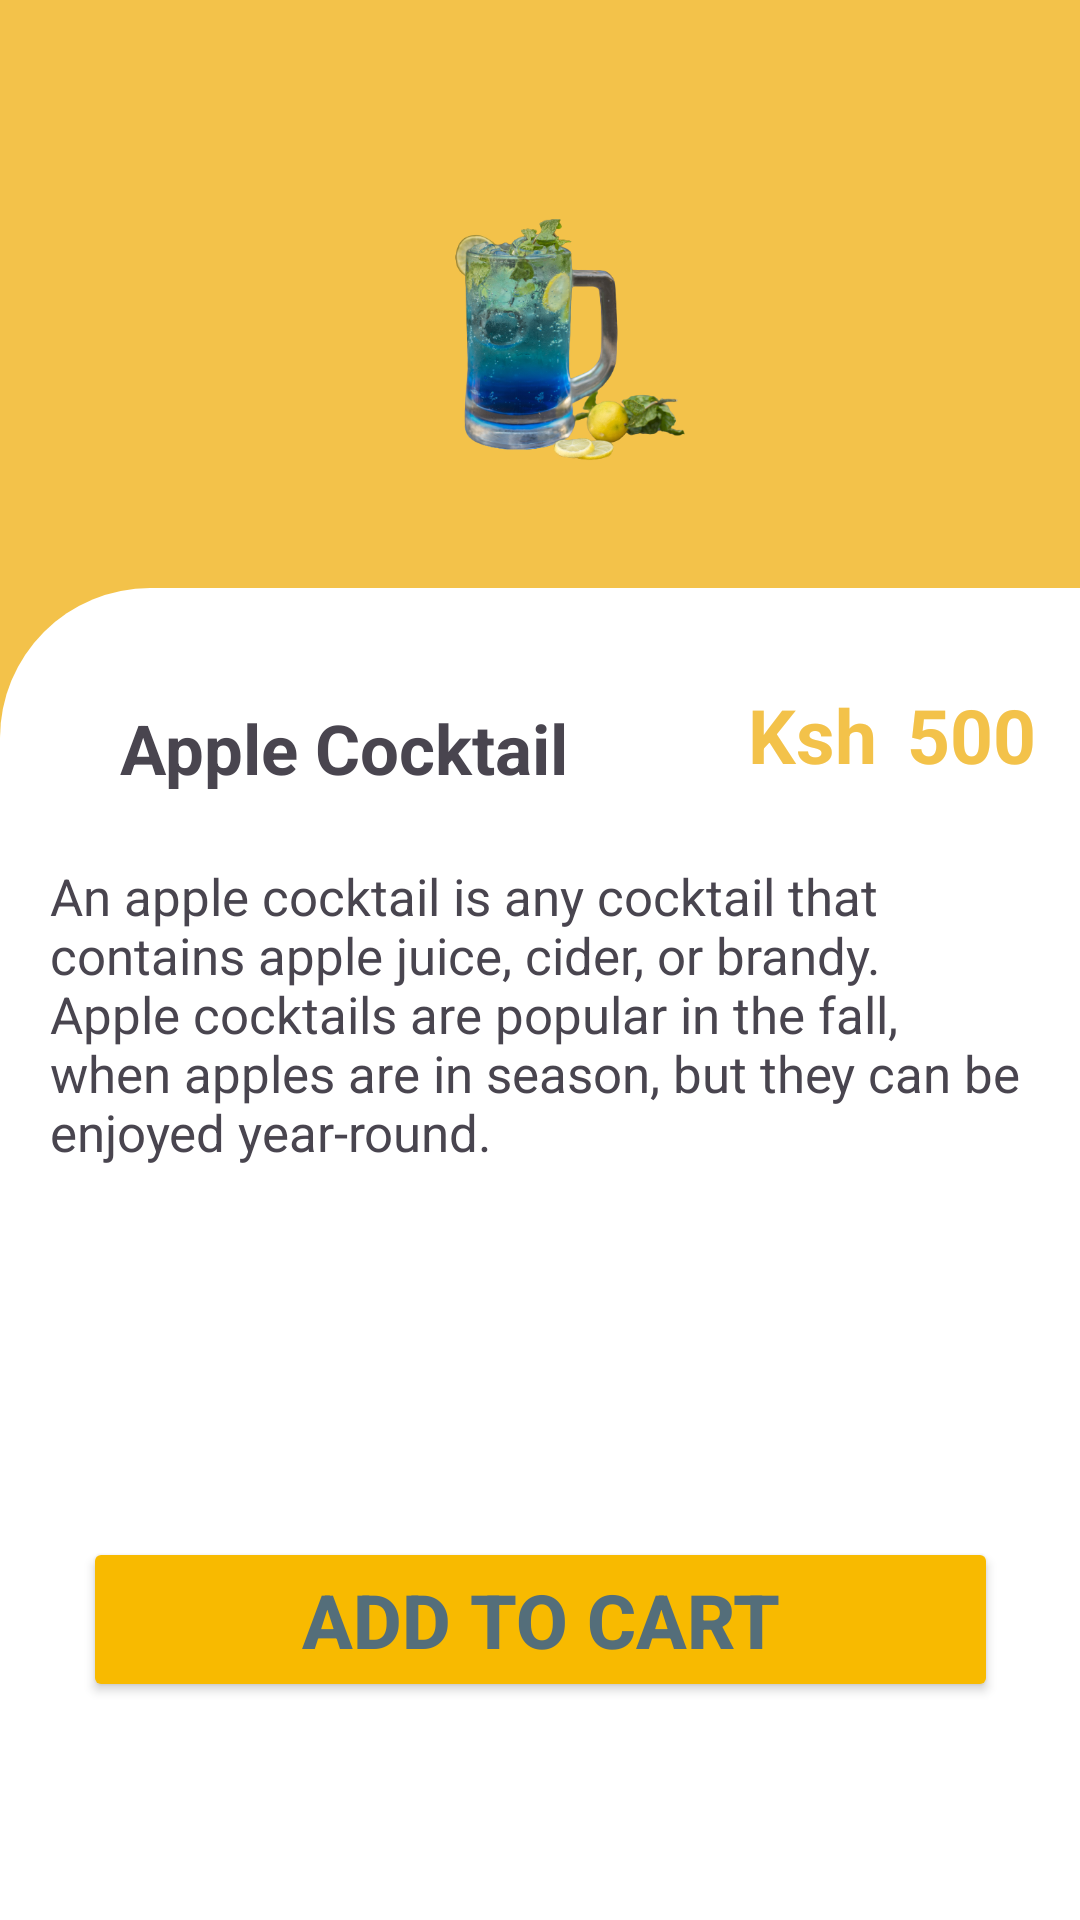

Icon bounding boxes for this 1080px×1920px phone screenshot, format (x1, y1, x2, y2):
cocktail: (455, 219, 685, 460)
